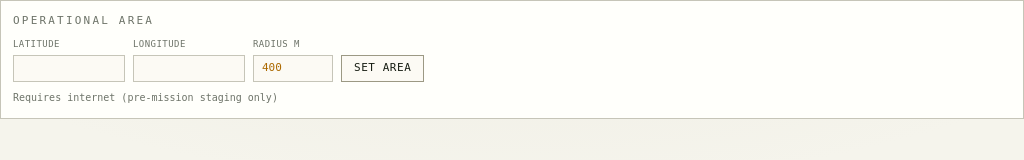
Scenario: OperationalArea › rejects blank/invalid coordinates without fetching
// No lat/lng entered.
Click the button "Set Area": (383, 68) [341,55,424,82]
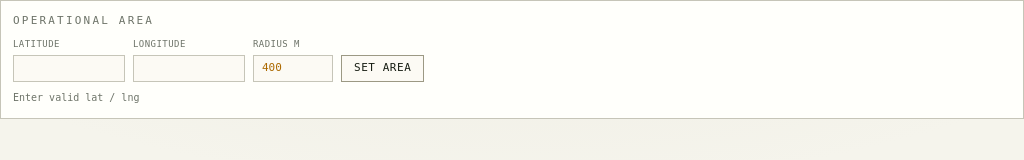
expect the text "Enter valid lat / lng" is shown: met, box [13,92,139,102]
